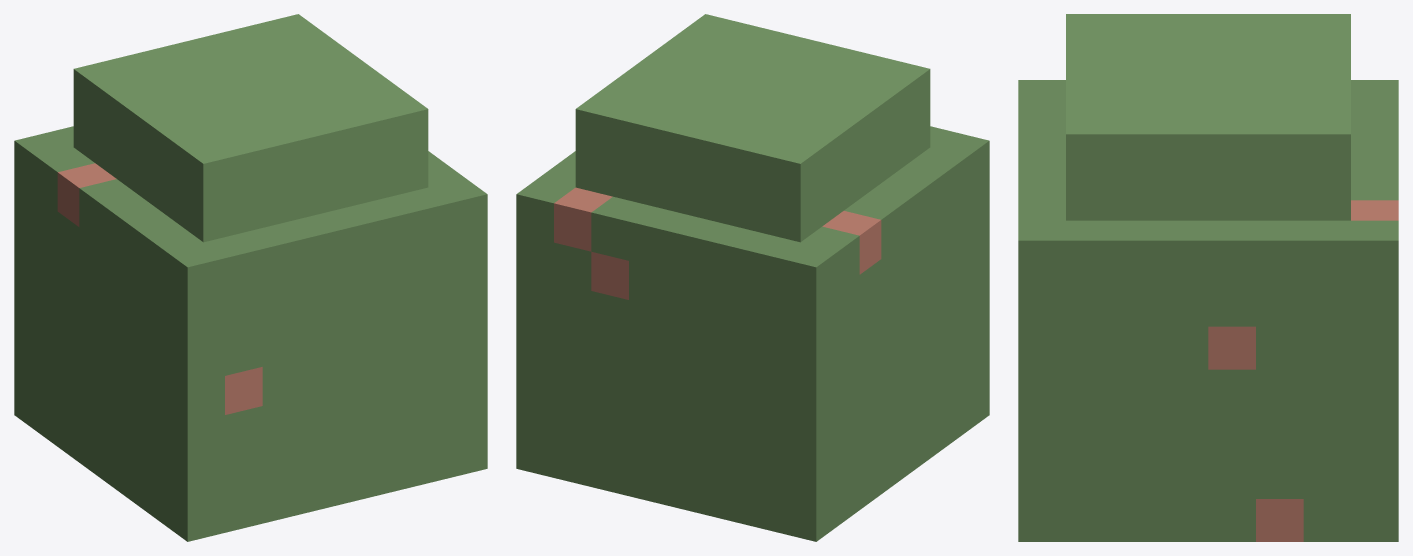
Rendered from serbal_03.glb.
3 renders of one model, left to right at view 1: azimuth 30°, elevation 25°; view 2: azimuth 150°, elevation 25°; view 3: azimuth 270°, elevation 25°, orthographic. The views are drawn at different scales.
Parts seen in each view (by area): view 1: serbal_03; view 2: serbal_03; view 3: serbal_03.
Boxes of the visible parts, x1,y1,x2,y2 form: serbal_03: (14, 14, 487, 541); serbal_03: (516, 14, 989, 541); serbal_03: (1018, 14, 1398, 541).
Size of the model in its own units: 0.8 by 0.9 by 0.8.
